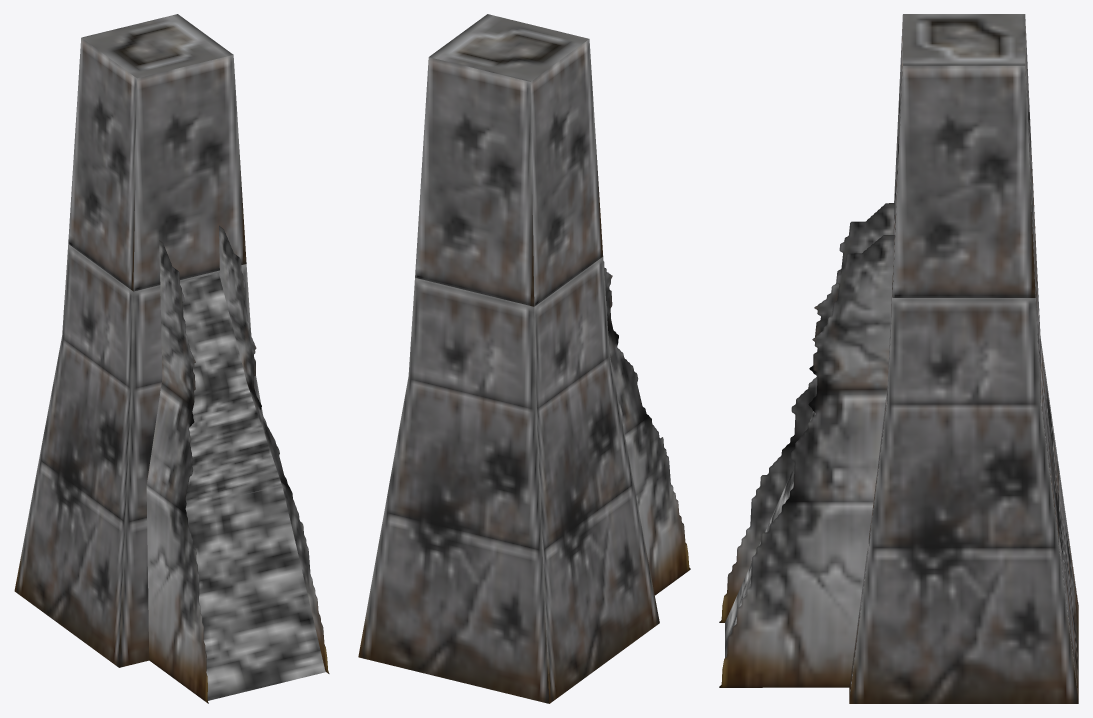
The model's file is s_heavywall_dam.glb.
3 renders of one model, left to right at view 1: azimuth 30°, elevation 25°; view 2: azimuth 150°, elevation 25°; view 3: azimuth 270°, elevation 25°, orthographic. The views are drawn at different scales.
Parts seen in each view (by area): view 1: S_HeavyWallDAM; view 2: S_HeavyWallDAM; view 3: S_HeavyWallDAM.
Boxes of the visible parts, box(x1,y1,x2,y2) form: S_HeavyWallDAM: box(14, 14, 329, 703); S_HeavyWallDAM: box(358, 14, 690, 703); S_HeavyWallDAM: box(719, 14, 1078, 703).
Size of the model in its own units: 6 by 17.76 by 9.4.
Materials: 1 (1 with a texture image).
